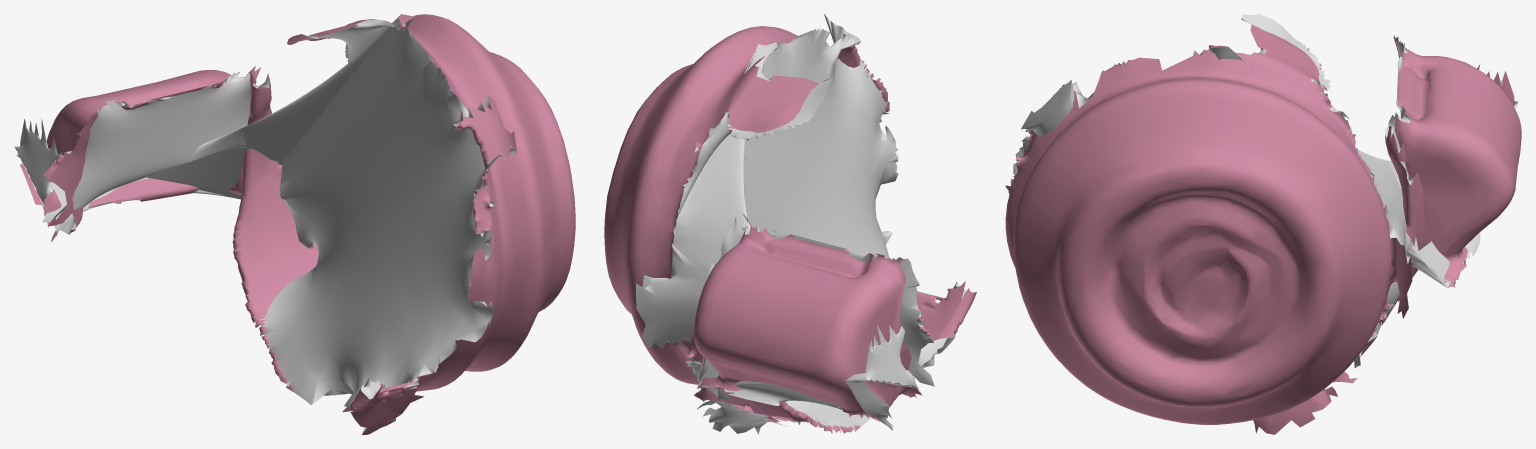
Rendered from Hi3D_Segmented Pastel Female Android 3D Model Asset_part51_20261014_192059.glb.
3 renders of one model, left to right at view 1: azimuth 30°, elevation 25°; view 2: azimuth 150°, elevation 25°; view 3: azimuth 270°, elevation 25°, orthographic. The views are drawn at different scales.
Visible parts, largest first — view 1: Hi3D_Segmented Pastel Female Android 3D Model Asset_part51_2; view 2: Hi3D_Segmented Pastel Female Android 3D Model Asset_part51_2; view 3: Hi3D_Segmented Pastel Female Android 3D Model Asset_part51_2.
Part boxes in pixels (x1,y1,x2,y2): Hi3D_Segmented Pastel Female Android 3D Model Asset_part51_2: (14, 14, 575, 434); Hi3D_Segmented Pastel Female Android 3D Model Asset_part51_2: (604, 14, 976, 434); Hi3D_Segmented Pastel Female Android 3D Model Asset_part51_2: (1005, 14, 1521, 434).
Size of the model in its own units: 0.0353 by 0.0343 by 0.0406.
